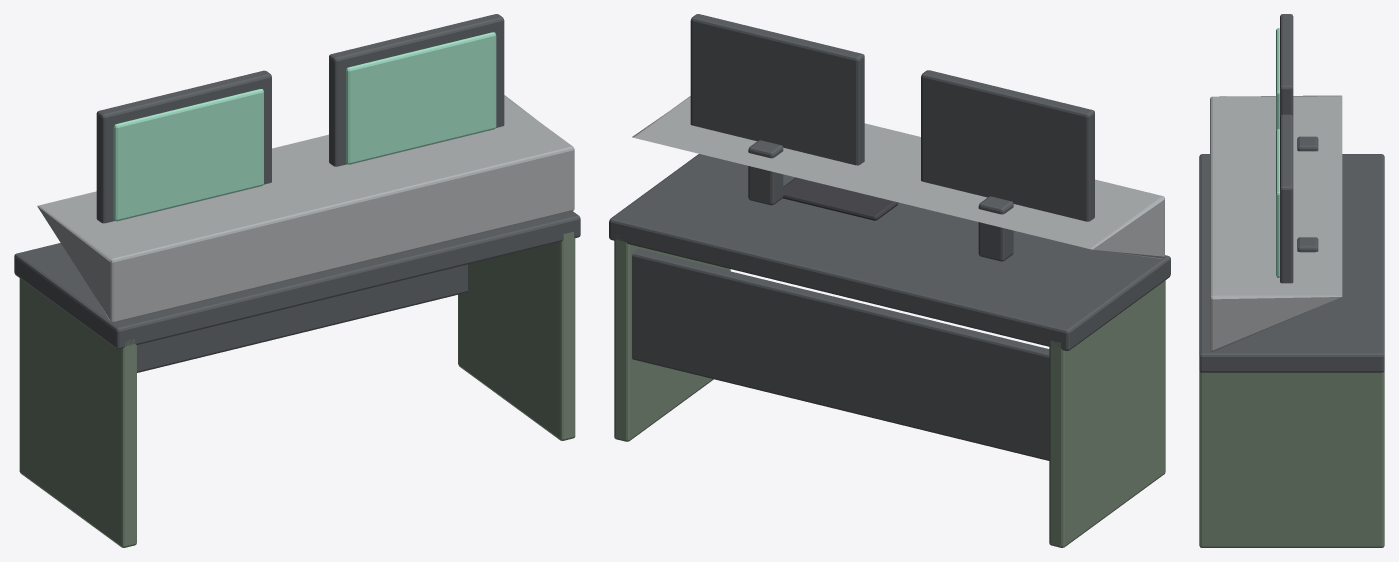
Rendered from control_desk.fbx.
The picture shows the model from 3 angles, left to right: view 1: azimuth 30°, elevation 25°; view 2: azimuth 150°, elevation 25°; view 3: azimuth 270°, elevation 25°; orthographic projection. The views are drawn at different scales.
Parts seen in each view (by area): view 1: control_desk; view 2: control_desk; view 3: control_desk.
Part boxes in pixels (left/top/right/bottom): control_desk: left=14, top=14, right=580, bottom=547; control_desk: left=609, top=14, right=1170, bottom=547; control_desk: left=1199, top=14, right=1384, bottom=547.
Bounding box in the file's own units: 1.8 × 1.46 × 0.7.
